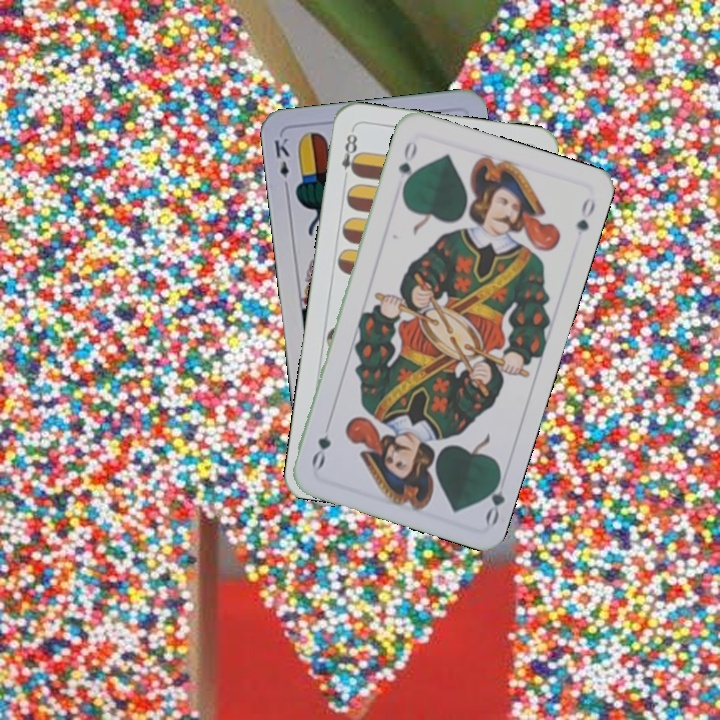E8: (337, 126, 362, 185)
EK: (270, 133, 292, 193)
GO: (479, 467, 508, 527), (394, 137, 420, 194)
